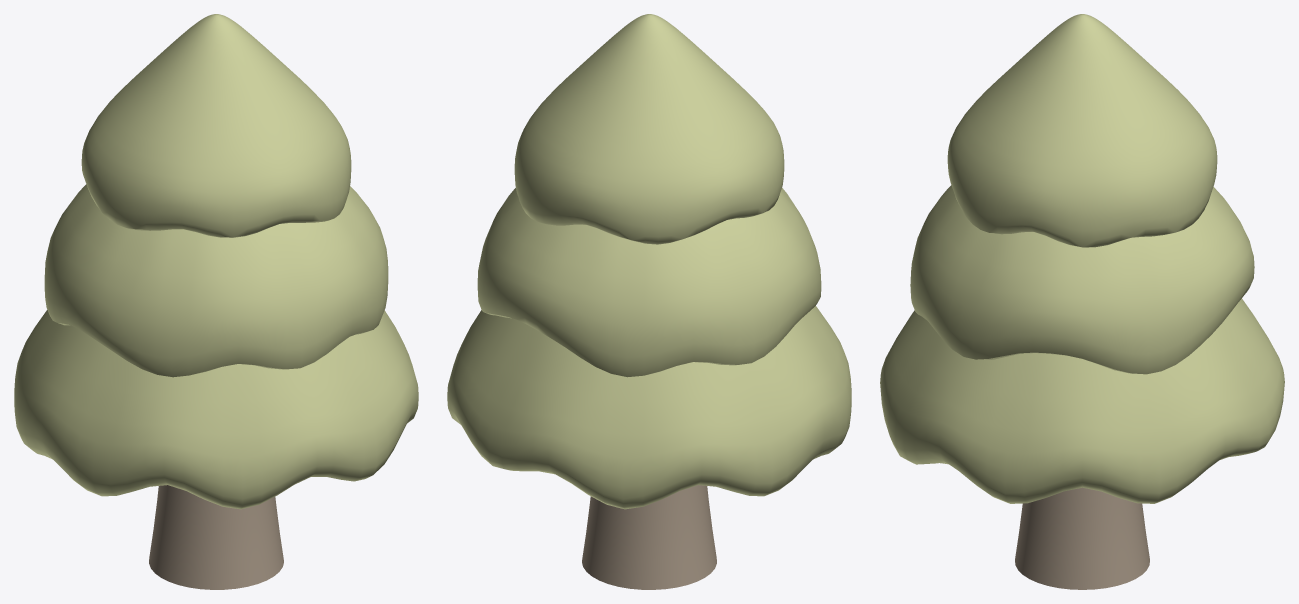
Rendered from tree3.glb.
3 renders of one model, left to right at view 1: azimuth 30°, elevation 25°; view 2: azimuth 150°, elevation 25°; view 3: azimuth 270°, elevation 25°, orthographic.
Parts seen in each view (by area): view 1: 나무1_2; view 2: 나무1_2; view 3: 나무1_2.
Part boxes in pixels (x1,y1,x2,y2): 나무1_2: [14, 14, 418, 589]; 나무1_2: [447, 14, 851, 589]; 나무1_2: [880, 14, 1284, 589].
Bounding box in the file's own units: 0.7486 × 1.12 × 0.7486.
